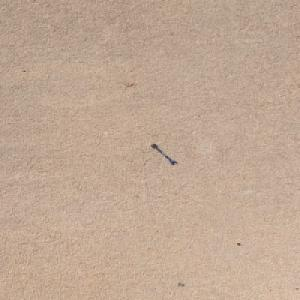Wrench: (149, 143, 177, 165)
